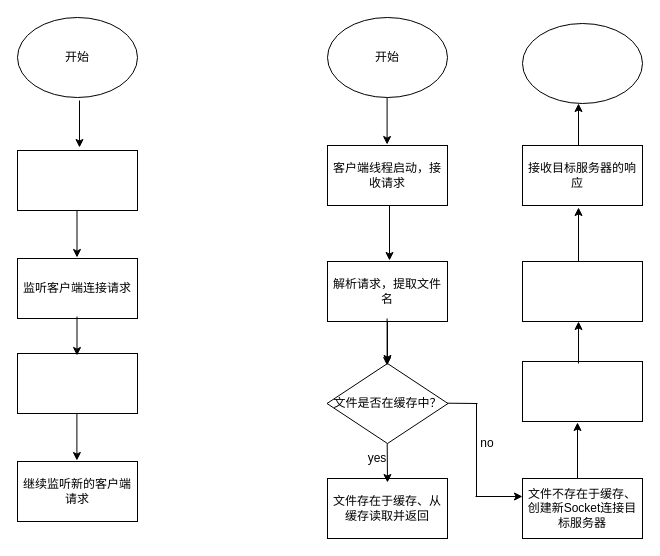
The diagram is 660 pixels wide and 556 high, and some of its shapes have lost their labels. The box of each missing label's shape, as (x1, y1, x2, y2) in pixels:
启动服务器，绑定端口: (16, 150, 138, 210)
接收到客户端连接请求、创建新线程处理请求: (16, 352, 138, 414)
结束: (522, 22, 642, 104)
转发客户端请求到目标服务器: (522, 360, 642, 422)
返回响应给客户端，缓存响应: (522, 260, 642, 322)
